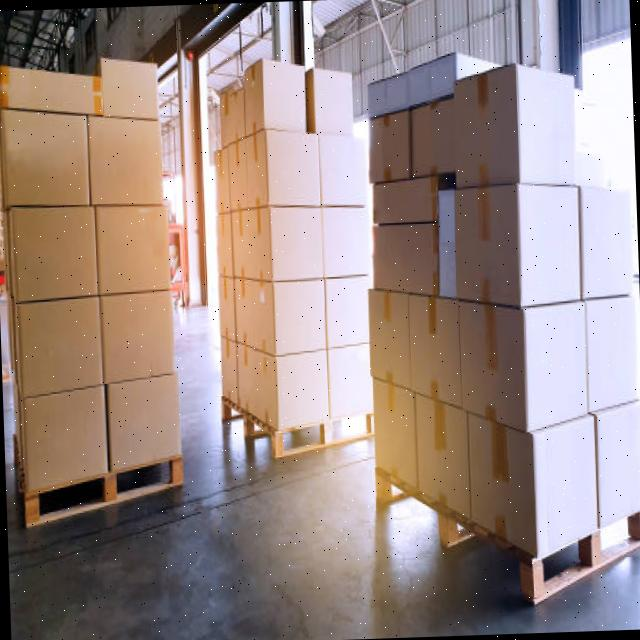Wooden-Pallets: (372, 464, 640, 610), (17, 451, 188, 539)
